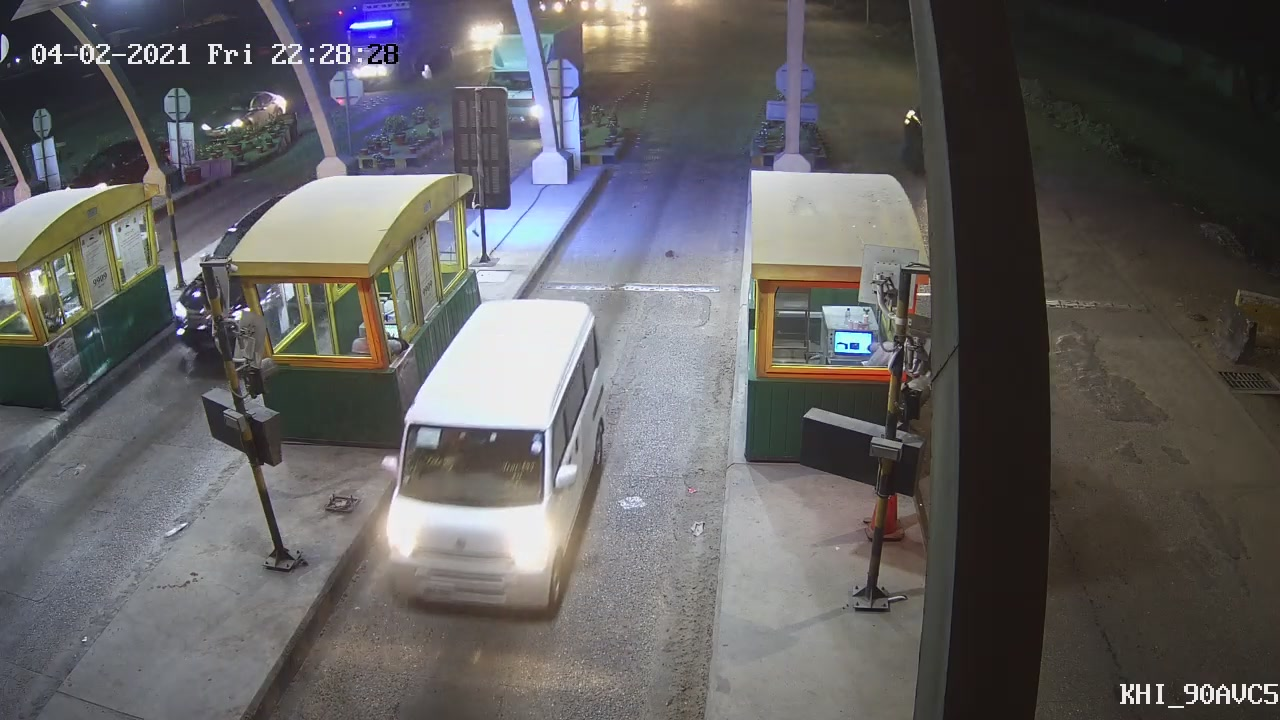F1: (382, 300, 616, 620)
